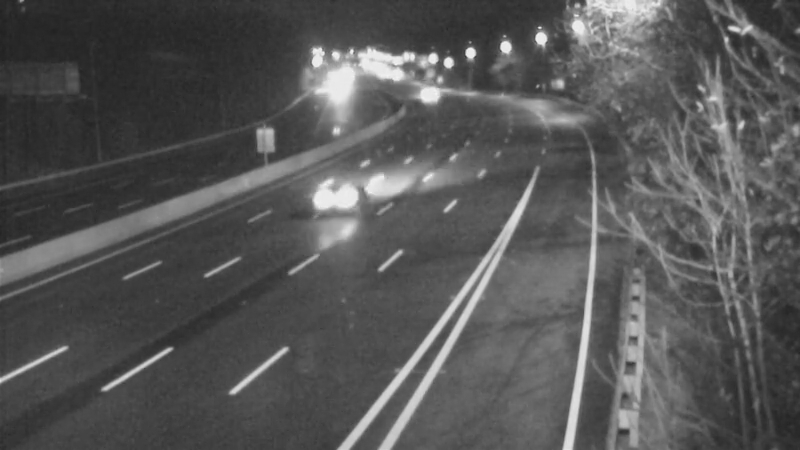vehicle: (310, 153, 390, 233), (404, 67, 454, 117)
